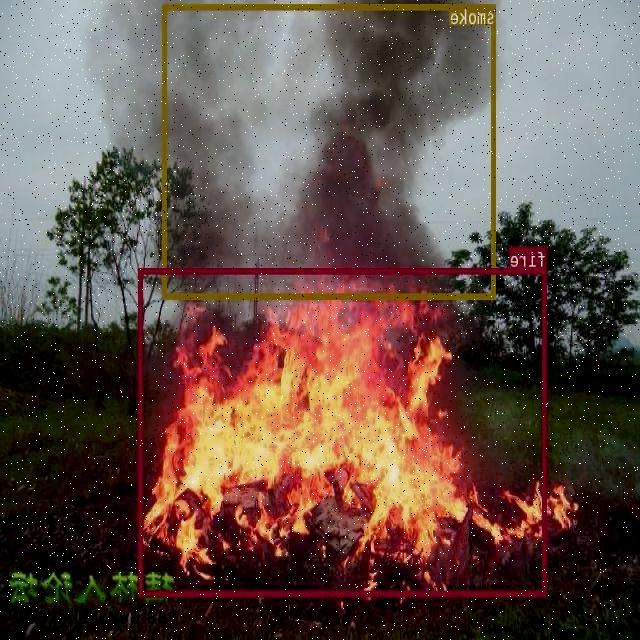fire: (140, 267, 548, 596)
smoke: (163, 3, 497, 298)
